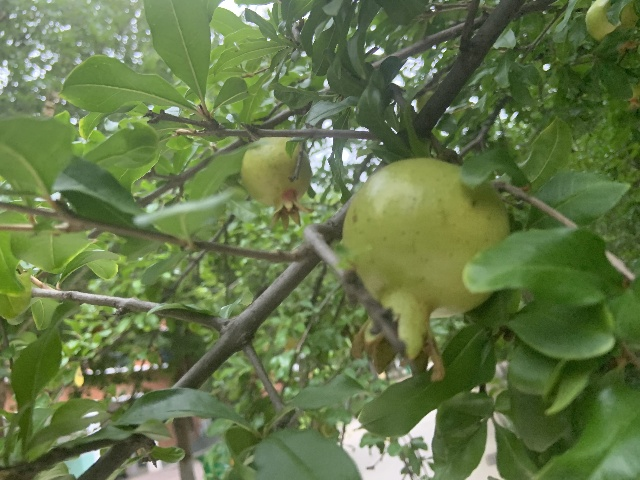mid-growth: (339, 156, 511, 382), (239, 137, 314, 228), (586, 0, 640, 53)
